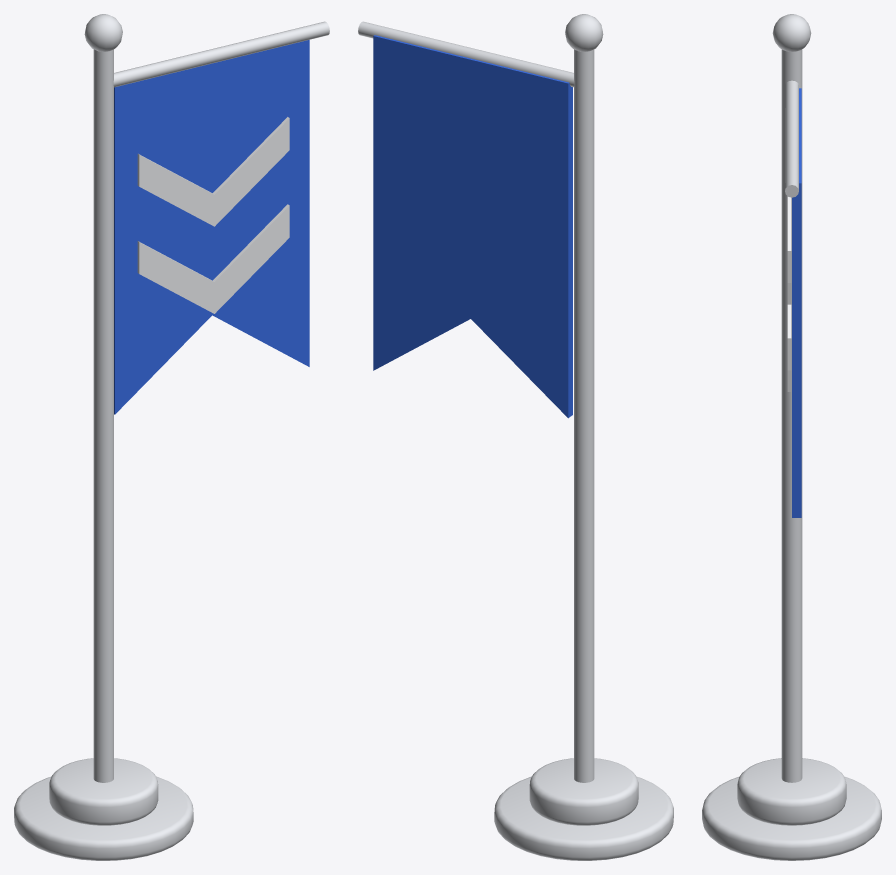
File: SD_Flag_Blue.fbx
3 views of the same model, side by side, from view 1: azimuth 30°, elevation 25°; view 2: azimuth 150°, elevation 25°; view 3: azimuth 270°, elevation 25° (orthographic).
Parts seen in each view (by area): view 1: Flag_Blue; view 2: Flag_Blue; view 3: Flag_Blue.
Part boxes in pixels (bbox=[...]): Flag_Blue: bbox=[14, 14, 329, 860]; Flag_Blue: bbox=[358, 14, 673, 860]; Flag_Blue: bbox=[702, 14, 881, 860].
Bounding box in the file's own units: 1.08 × 2.78 × 0.56.
